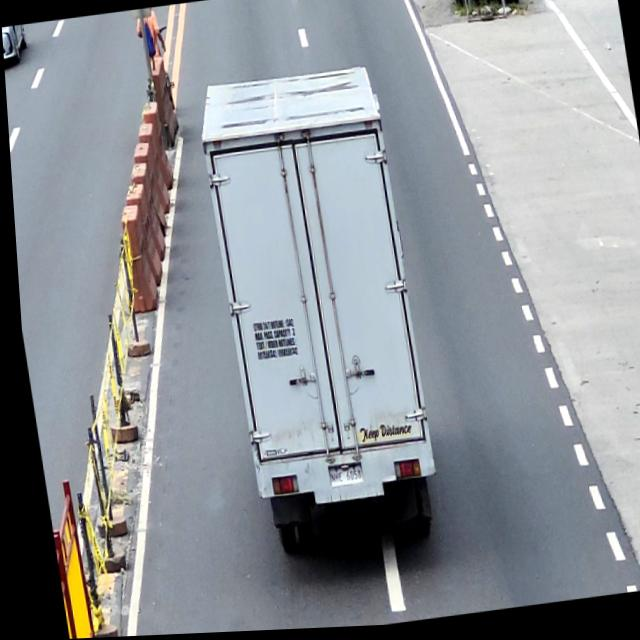Car: (1, 24, 28, 70)
License-Plate: (319, 465, 357, 490)
Truck: (189, 64, 442, 565)
